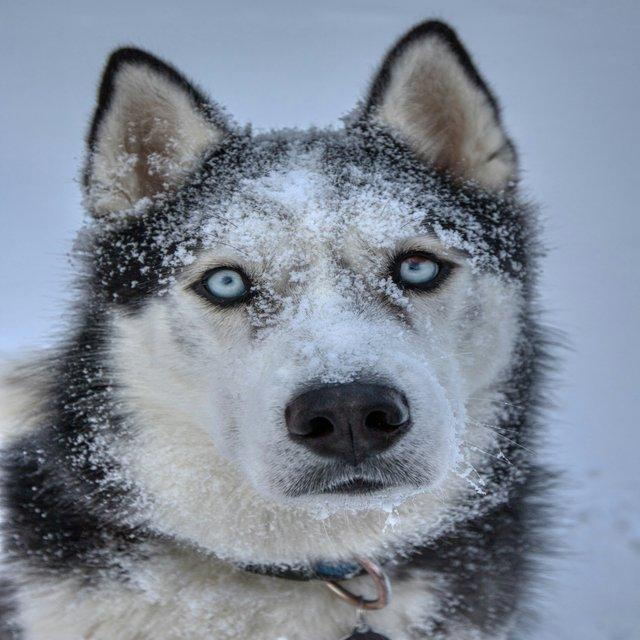husky: (0, 17, 574, 639)
